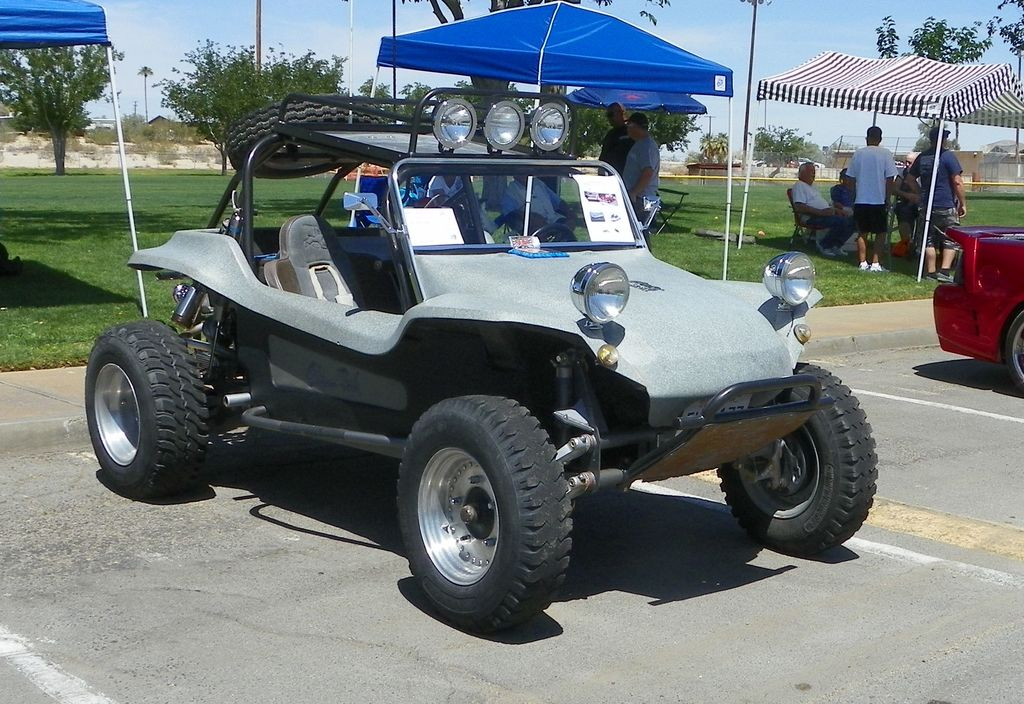person: (596, 99, 632, 173)
